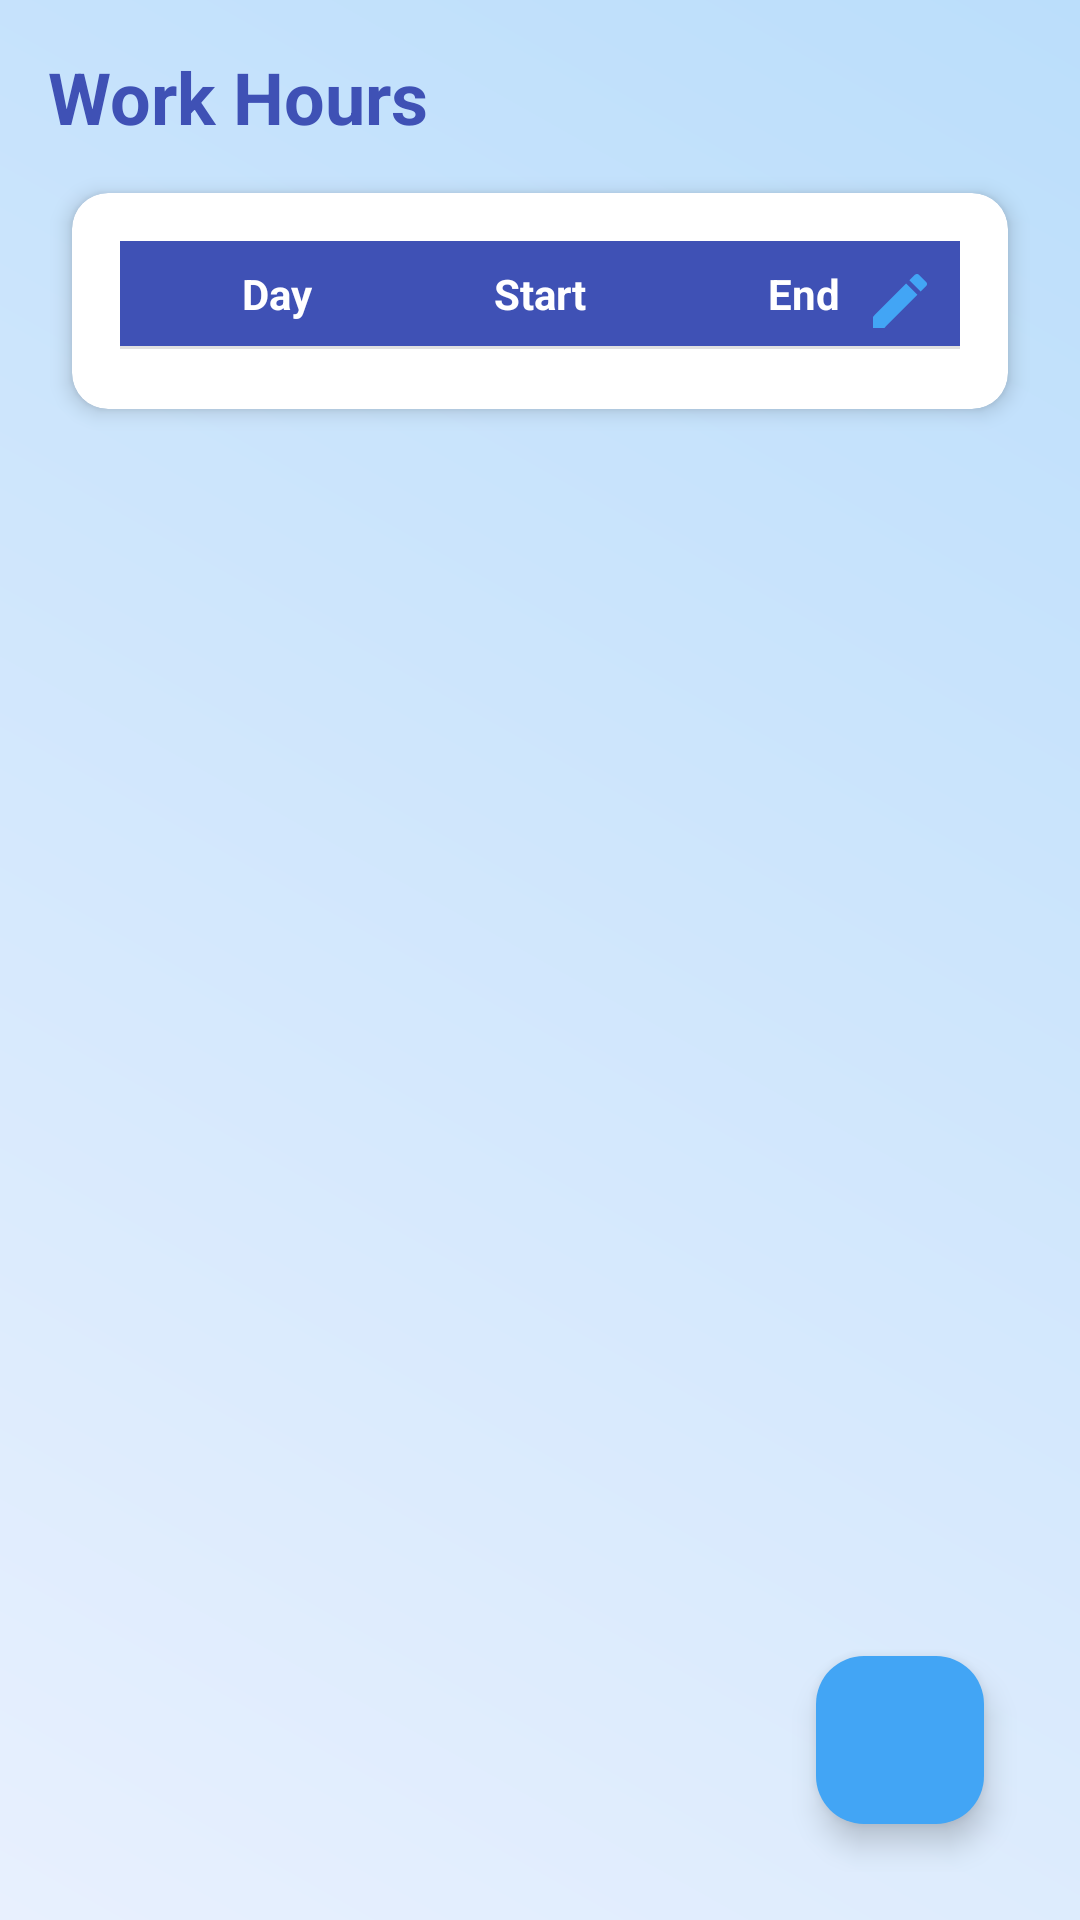

Screen size 1080*1920. Icon name, then its box in pixels as (left=x1, top=y1, right=x2, bottom=y2):
Edit Schedule: (left=840, top=241, right=960, bottom=349)
